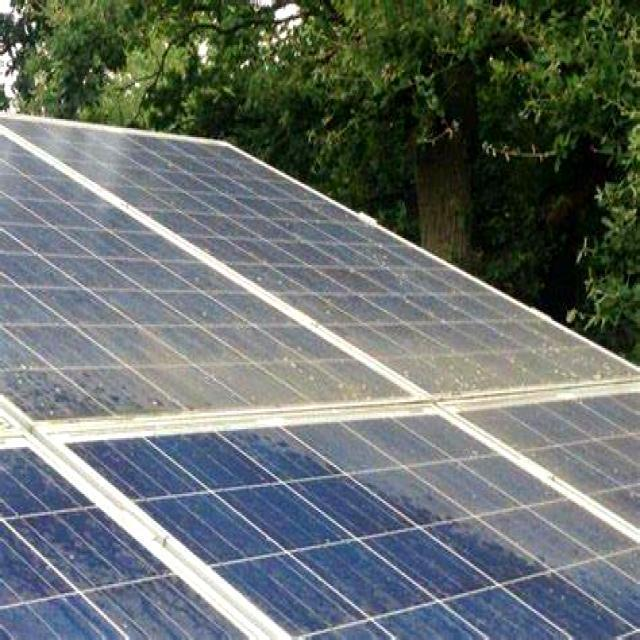soiled: (1, 115, 640, 435), (5, 394, 640, 640)
